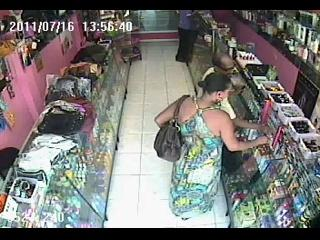Normal: (154, 70, 268, 225), (153, 94, 190, 162), (174, 10, 202, 66), (210, 52, 234, 76), (121, 46, 142, 64)
